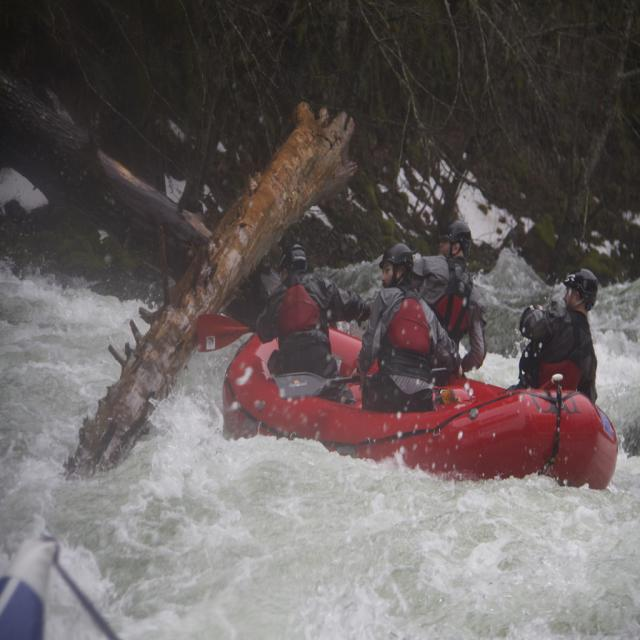Boat: (186, 300, 631, 478)
